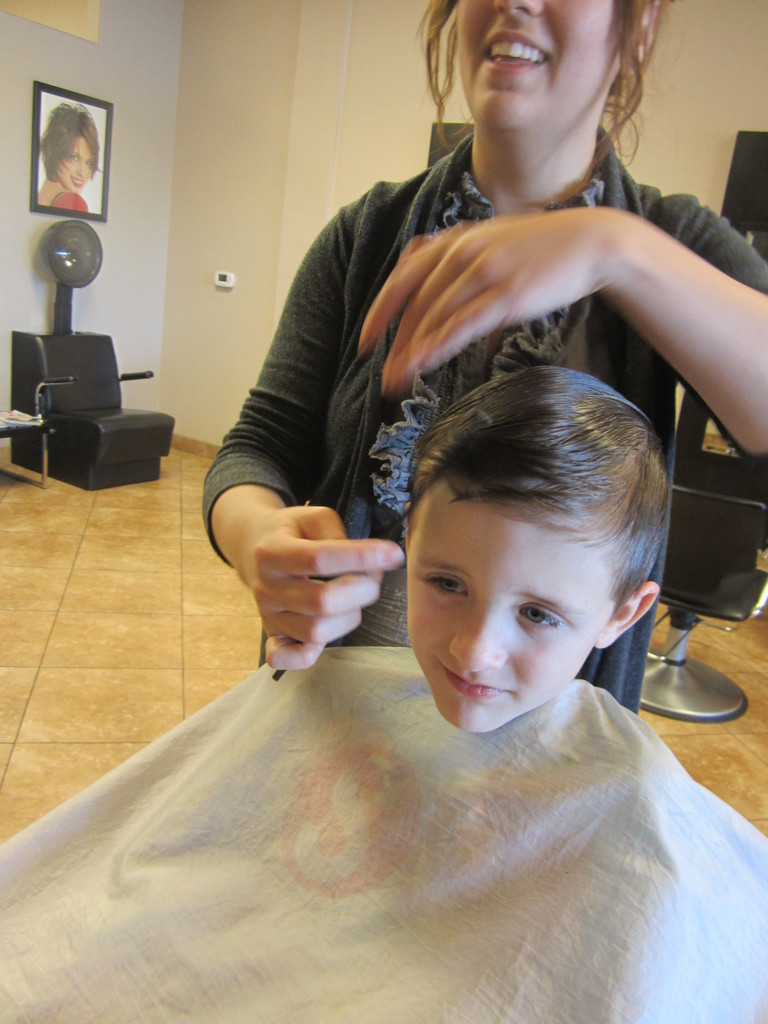Human_hand: (359, 206, 617, 391), (236, 506, 404, 669)
